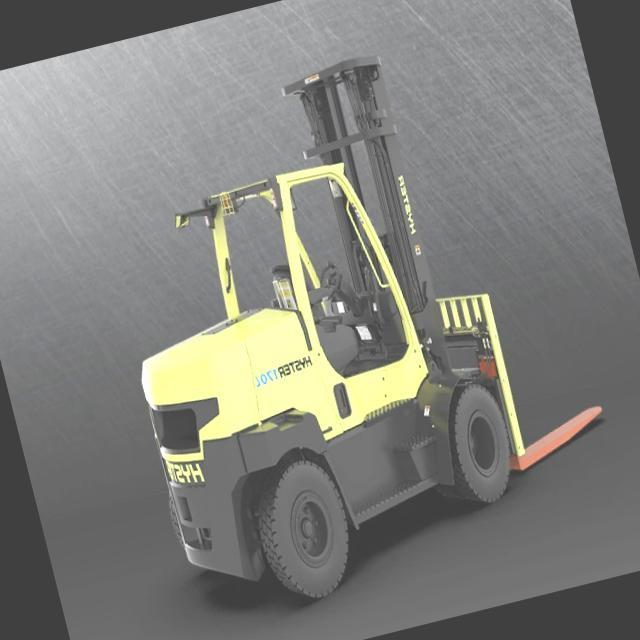forklift: (68, 26, 564, 639)
